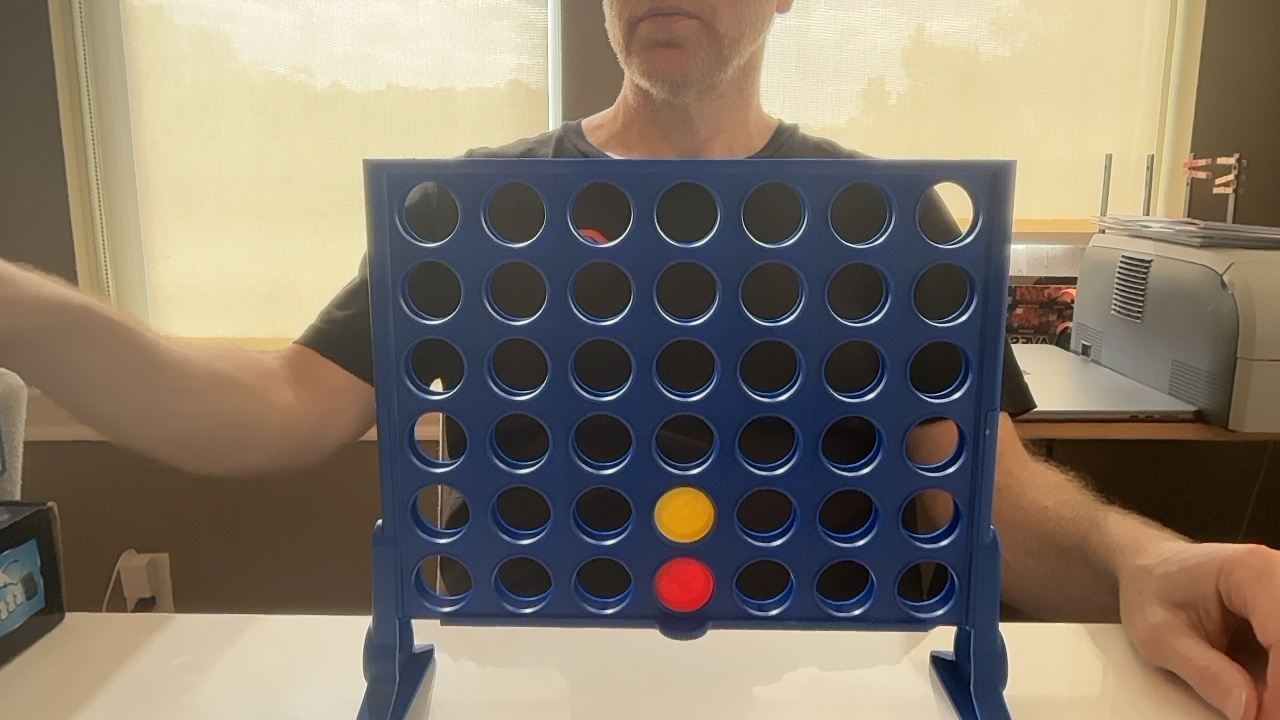red piece: (654, 557, 714, 612)
yellow piece: (654, 487, 714, 543)
